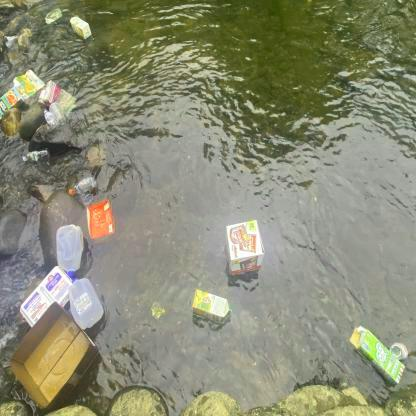Plastic: (18, 262, 76, 332), (0, 66, 47, 119), (67, 270, 105, 326), (56, 222, 86, 280), (67, 172, 97, 197)
